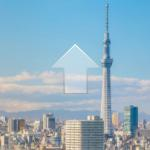缺口: (51, 42, 97, 93)
